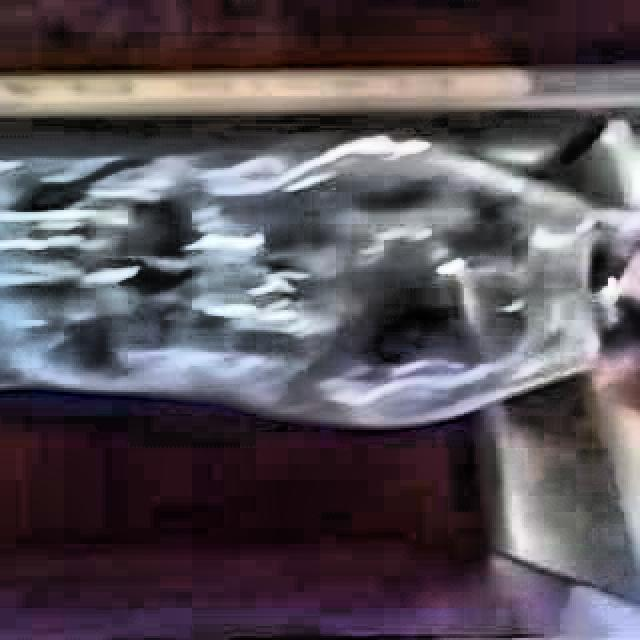plastic: (0, 135, 640, 428)
